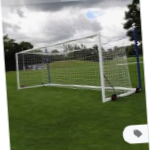goals: (11, 31, 139, 105)
